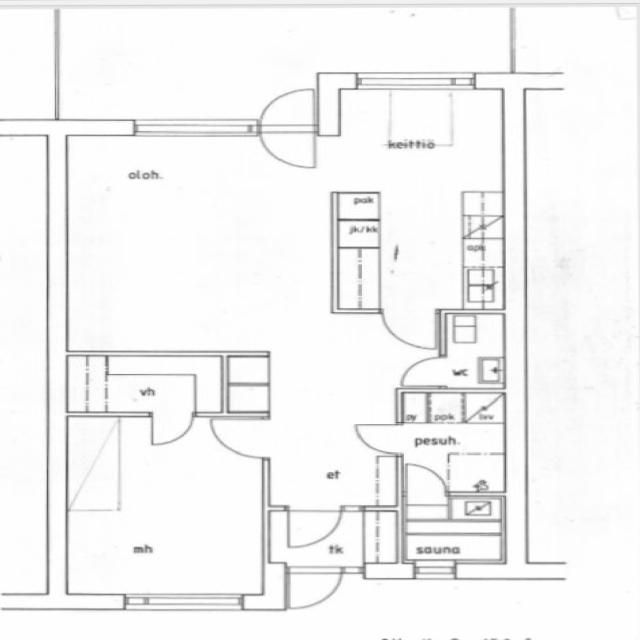door: (254, 85, 320, 173), (271, 502, 352, 557), (203, 413, 274, 463), (279, 563, 349, 612), (376, 306, 443, 353), (398, 459, 452, 505), (143, 410, 199, 450), (348, 419, 405, 457), (396, 352, 450, 389)
window: (119, 590, 245, 615), (355, 68, 483, 91), (132, 116, 256, 139), (407, 557, 464, 582)
zone: (57, 132, 338, 366), (330, 75, 508, 314), (57, 413, 270, 604), (66, 352, 224, 416), (404, 502, 509, 573), (438, 310, 507, 392), (330, 244, 388, 317), (447, 453, 508, 497)
